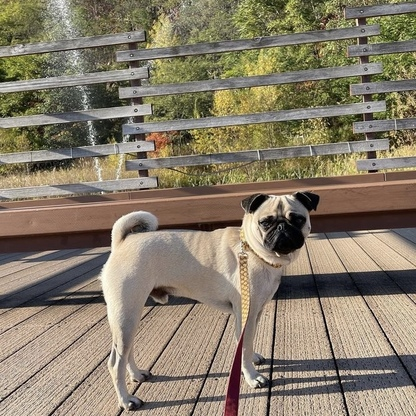Pug: (93, 189, 327, 415)
